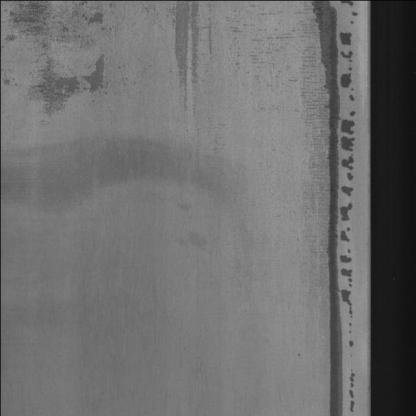oil_spot: (308, 2, 356, 407), (0, 5, 110, 124), (149, 0, 217, 103)
